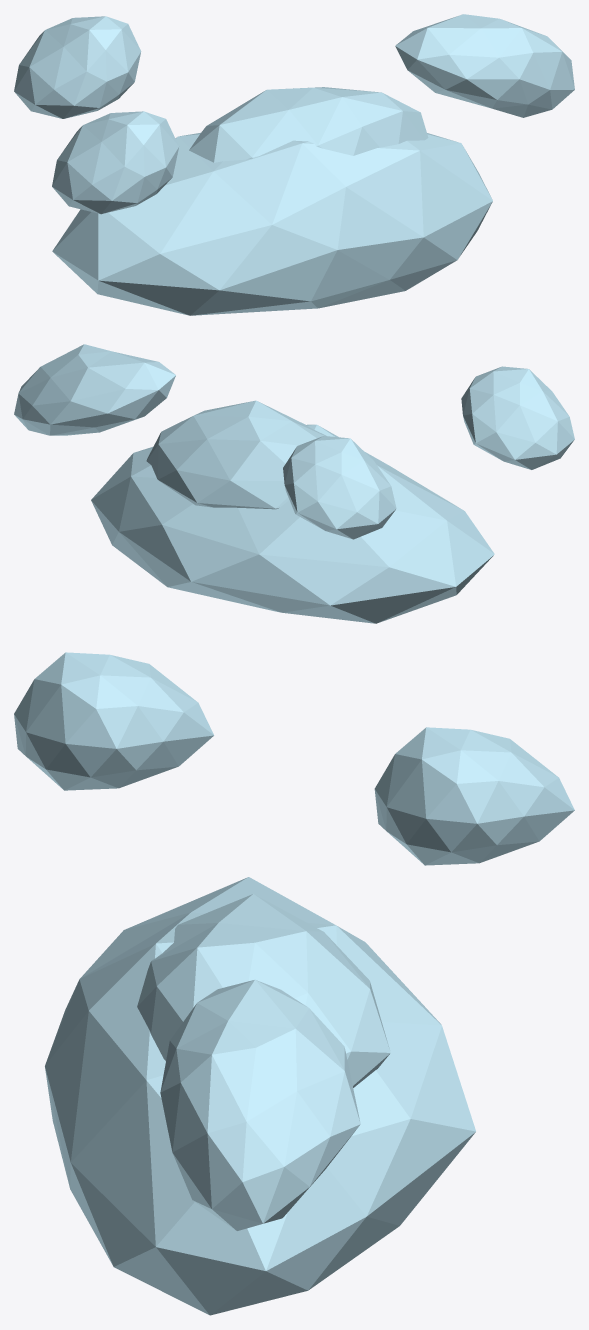
File: bulut1.fbx
The picture shows the model from 3 angles, top to bottom: view 1: azimuth 30°, elevation 25°; view 2: azimuth 150°, elevation 25°; view 3: azimuth 270°, elevation 25°; orthographic projection. The views are drawn at different scales.
Parts seen in each view (by area): view 1: Icosphere.003; view 2: Icosphere.003; view 3: Icosphere.003.
Part boxes in pixels (bbox=[...]): Icosphere.003: bbox=[14, 14, 574, 315]; Icosphere.003: bbox=[14, 344, 574, 623]; Icosphere.003: bbox=[14, 652, 574, 1315].
Bounding box in the file's own units: 550 × 247 × 312.
